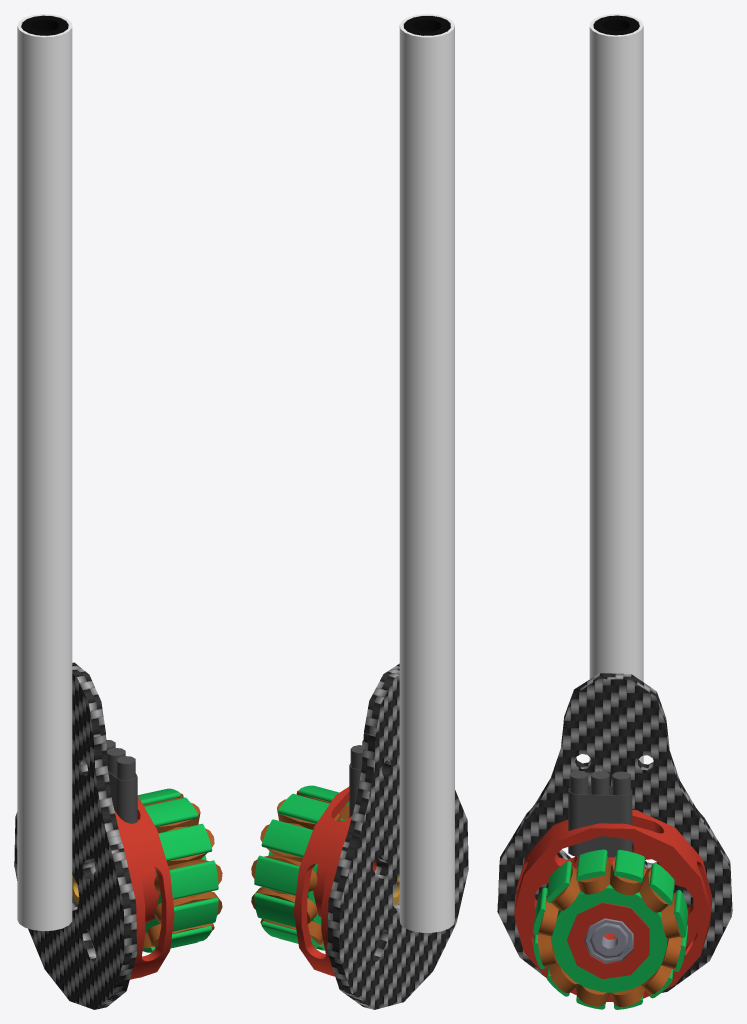
The model's file is MiniHawkArm.obj.
3 renders of one model, left to right at view 1: azimuth 30°, elevation 25°; view 2: azimuth 150°, elevation 25°; view 3: azimuth 270°, elevation 25°, orthographic. The views are drawn at different scales.
Visible parts, largest first — view 1: Al-Tube, CF-Plate, Base, CF-Tube; view 2: Al-Tube, CF-Plate, Base, CF-Tube; view 3: Al-Tube, Base, CF-Plate, CF-Tube.
Boxes of the visible parts, box(x1,y1,x2,y2) form: Al-Tube: box(17, 14, 72, 931); CF-Plate: box(14, 662, 136, 1009); Base: box(72, 739, 222, 979); CF-Tube: box(21, 15, 68, 35); Al-Tube: box(399, 14, 454, 932); CF-Plate: box(327, 663, 468, 1009); Base: box(251, 740, 399, 976); CF-Tube: box(404, 16, 450, 35); Al-Tube: box(589, 14, 643, 763); Base: box(514, 770, 712, 1009); CF-Plate: box(497, 673, 732, 992); CF-Tube: box(593, 15, 639, 35).
Bounding box in the file's own units: 0.0223 × 0.124 × 0.0275.
Materials: 9 (1 with a texture image).
